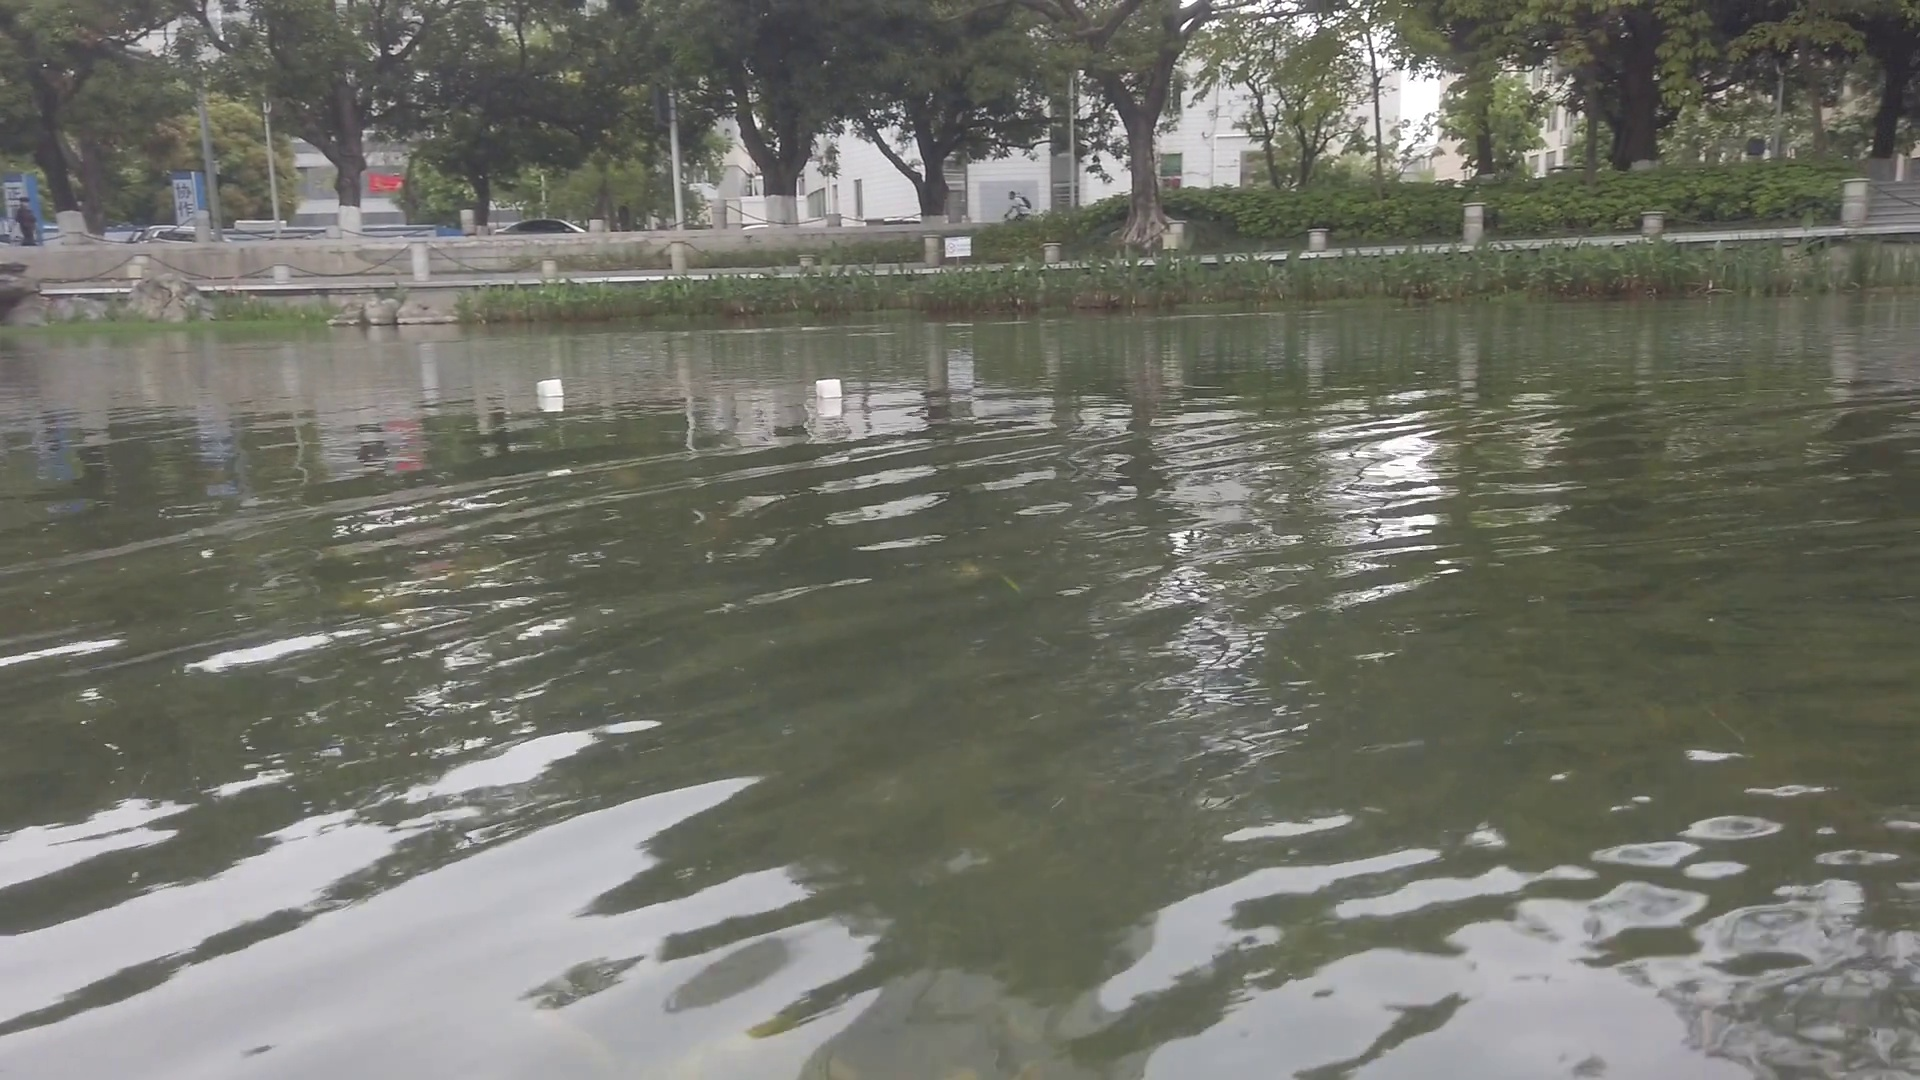carton: (816, 378, 843, 398), (538, 378, 563, 397)
